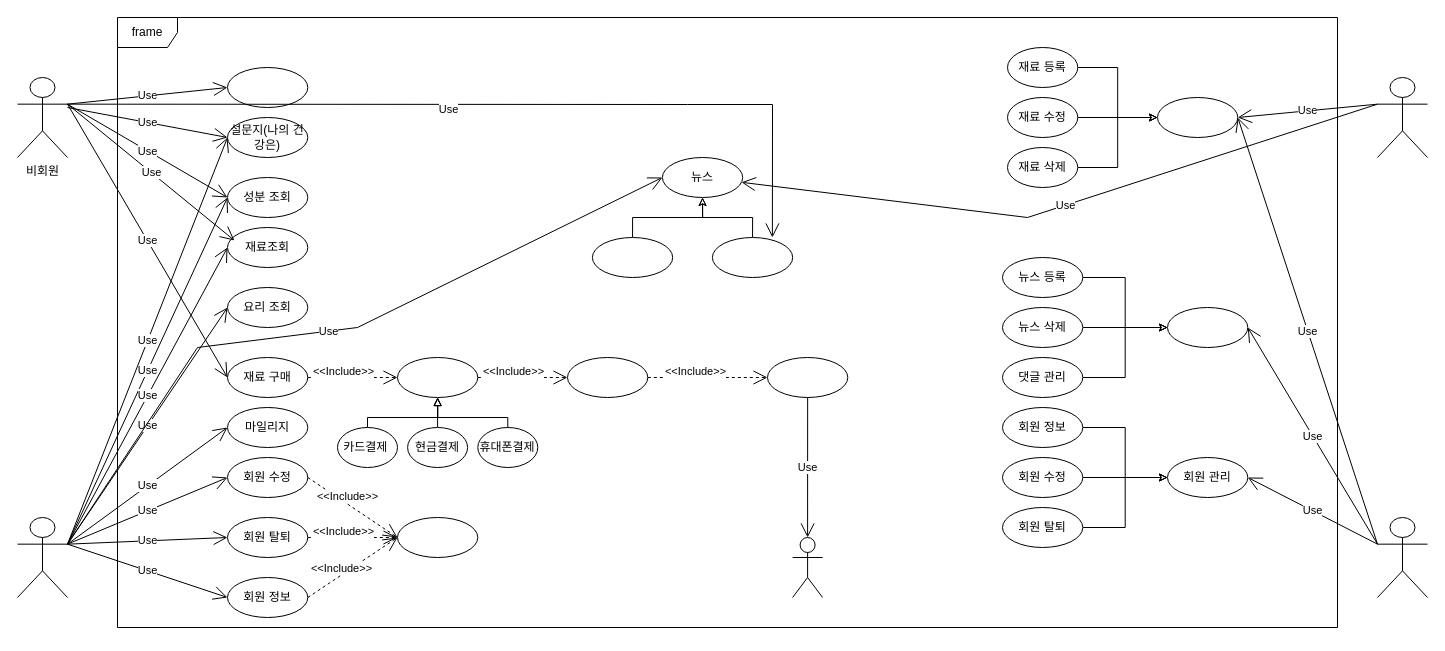
This 1445x651 diagram has some shape labels left out. The box of each missing label's shape, as (x1, y1, x2, y2) in pixels:
결제 대행 시스템: (792, 536, 823, 598)
결제 방식: (396, 356, 478, 398)
결제 요청: (566, 356, 648, 398)
결제 정보 확인: (766, 356, 848, 398)
관리자: (1376, 516, 1428, 598)
뉴스 관리: (1166, 306, 1248, 348)
뉴스 조회: (711, 236, 793, 278)
댓글 등록: (591, 236, 673, 278)
로그인: (396, 516, 478, 558)
재료 관리: (1156, 96, 1238, 138)
판매자: (1376, 76, 1428, 158)
회원: (16, 516, 68, 598)
회원가입: (226, 66, 308, 108)
